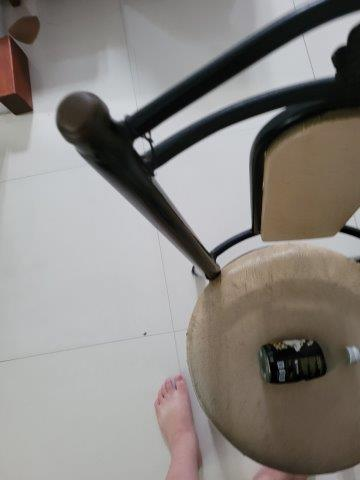botolkaca: (260, 341, 360, 385)
